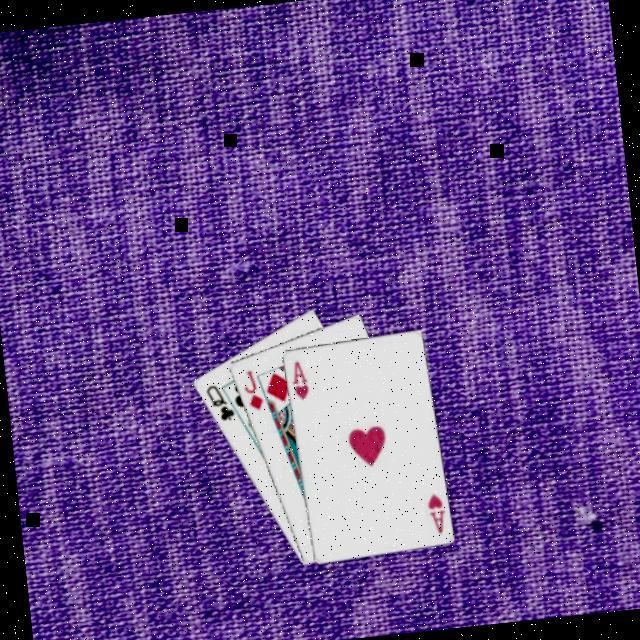AH: (286, 355, 313, 402), (423, 489, 450, 536)
JD: (240, 365, 268, 414)
QC: (202, 378, 238, 424)
